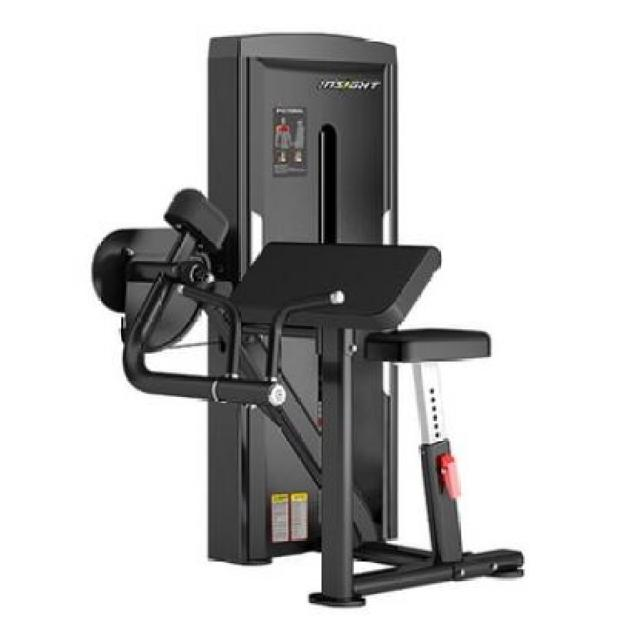arm curl machine: (91, 32, 526, 610)
